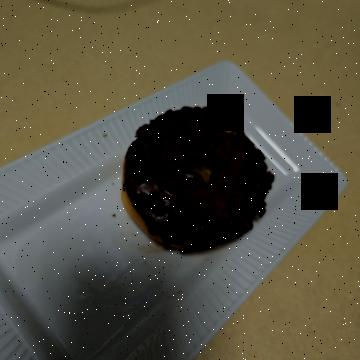doughnut: (86, 84, 263, 254)
